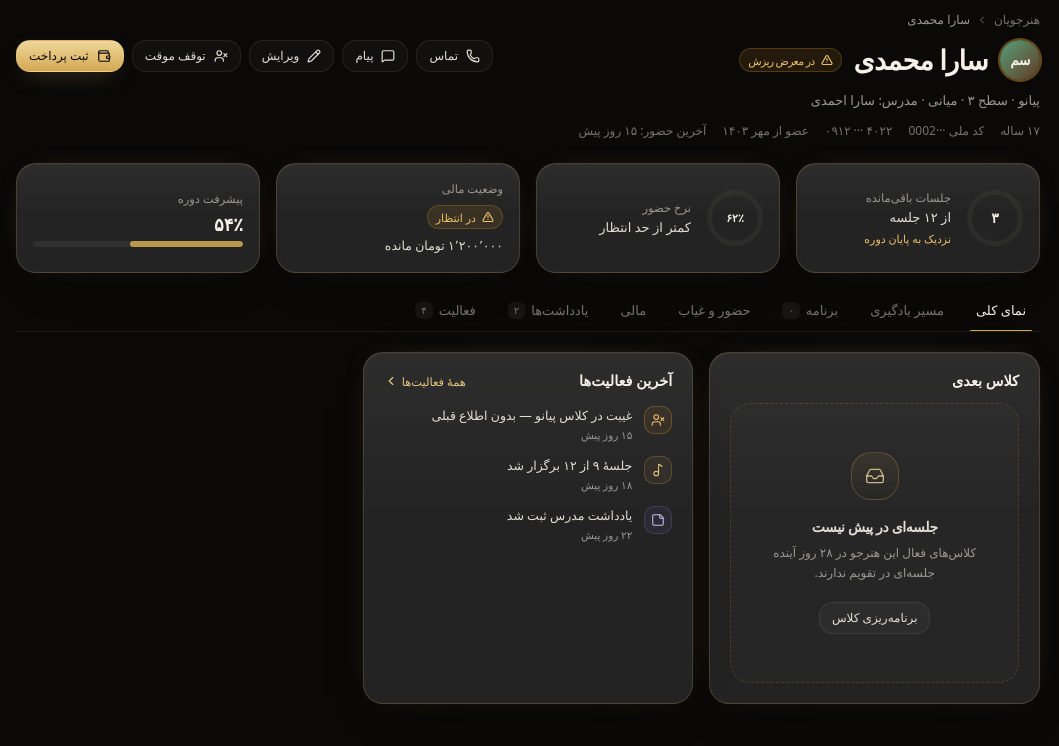
it: the timetable › shows an empty week as an empty week, not as a template
Click the tab "برنامه ۰" at {"x": 810, "y": 314}, box x1=768 y1=297 x2=852 y2=331
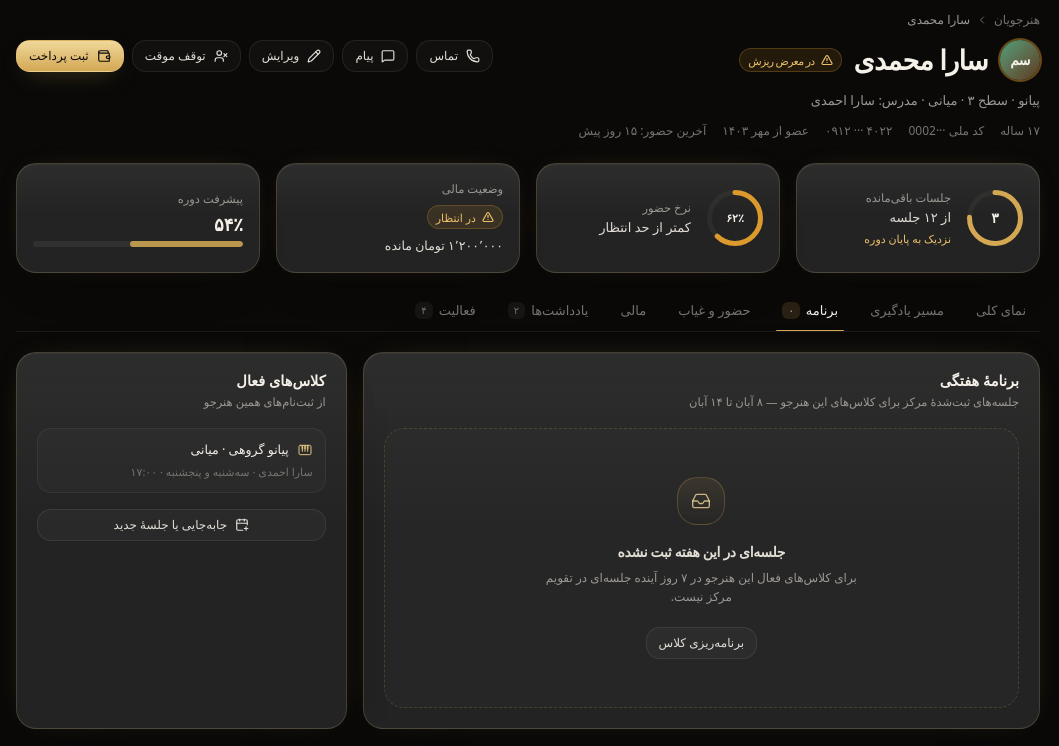
Check: the text "جلسه‌ای در این هفته ثبت نشده" is shown, box x1=618 y1=541 x2=785 y2=562
